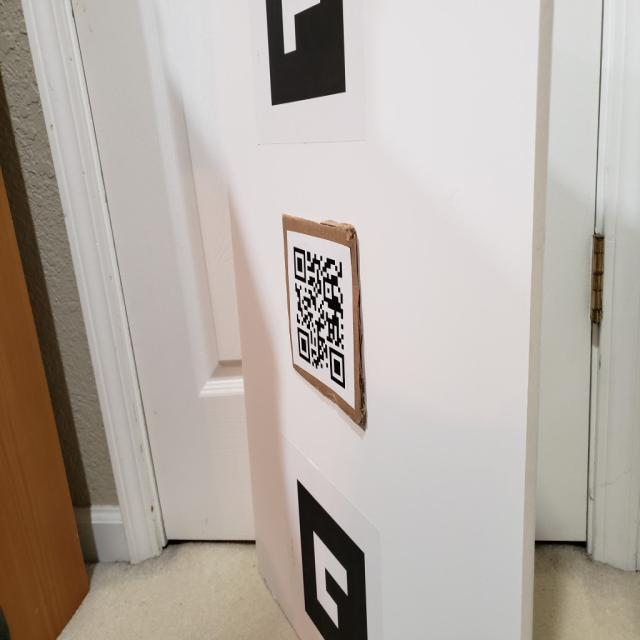qr-code: (288, 237, 356, 398)
